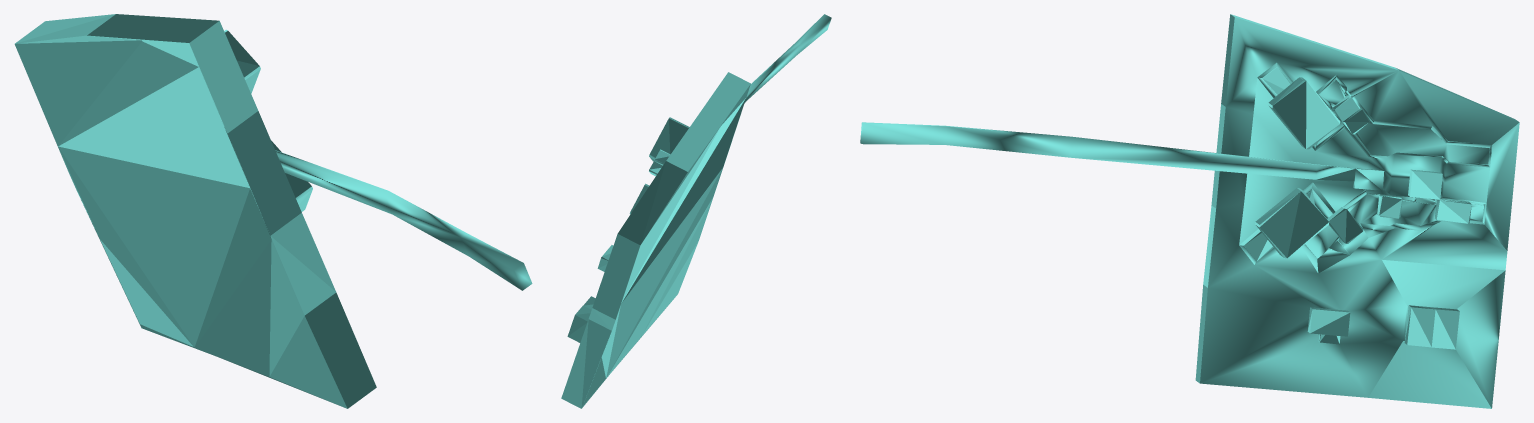
The model's file is nfz_arccorp_area_18_permission.glb.
3 renders of one model, left to right at view 1: azimuth 30°, elevation 25°; view 2: azimuth 150°, elevation 25°; view 3: azimuth 270°, elevation 25°, orthographic. The views are drawn at different scales.
Bounding box in the file's own units: 2032 × 5029 × 8392.
